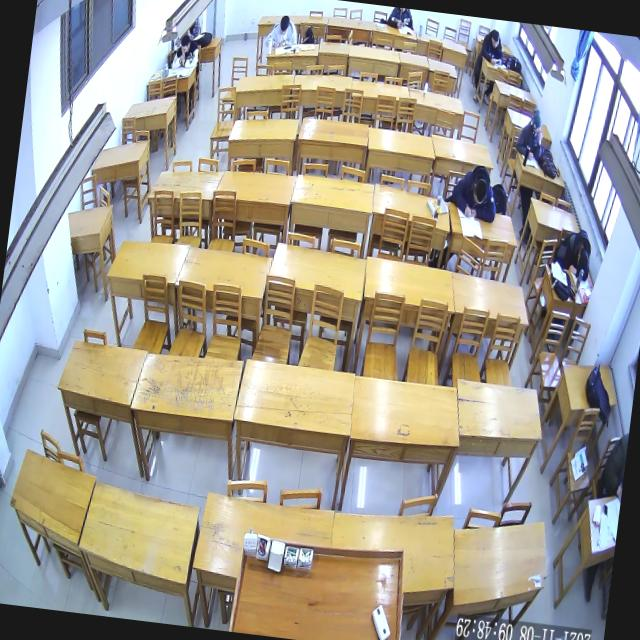bow: (448, 161, 501, 223), (554, 227, 594, 282), (264, 12, 300, 50)
down: (472, 178, 488, 204), (278, 14, 290, 36), (178, 34, 190, 54), (490, 30, 500, 48)
sit: (514, 108, 546, 162), (170, 34, 202, 72), (478, 28, 506, 66)
